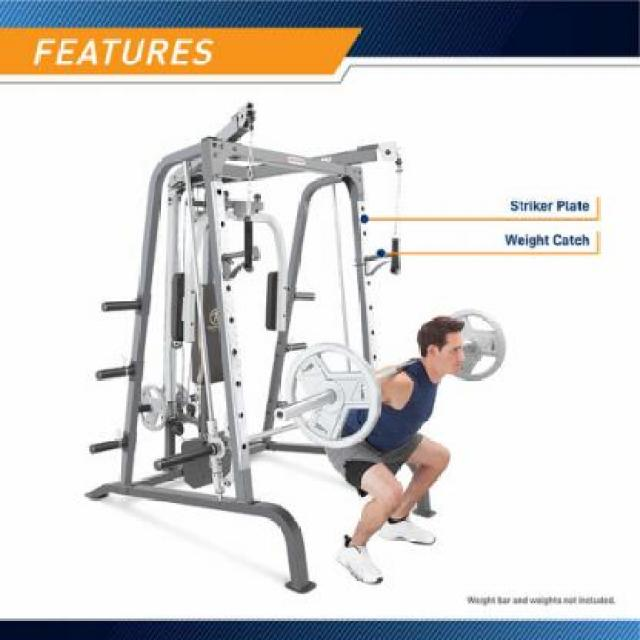smith machine: (85, 100, 392, 594)
